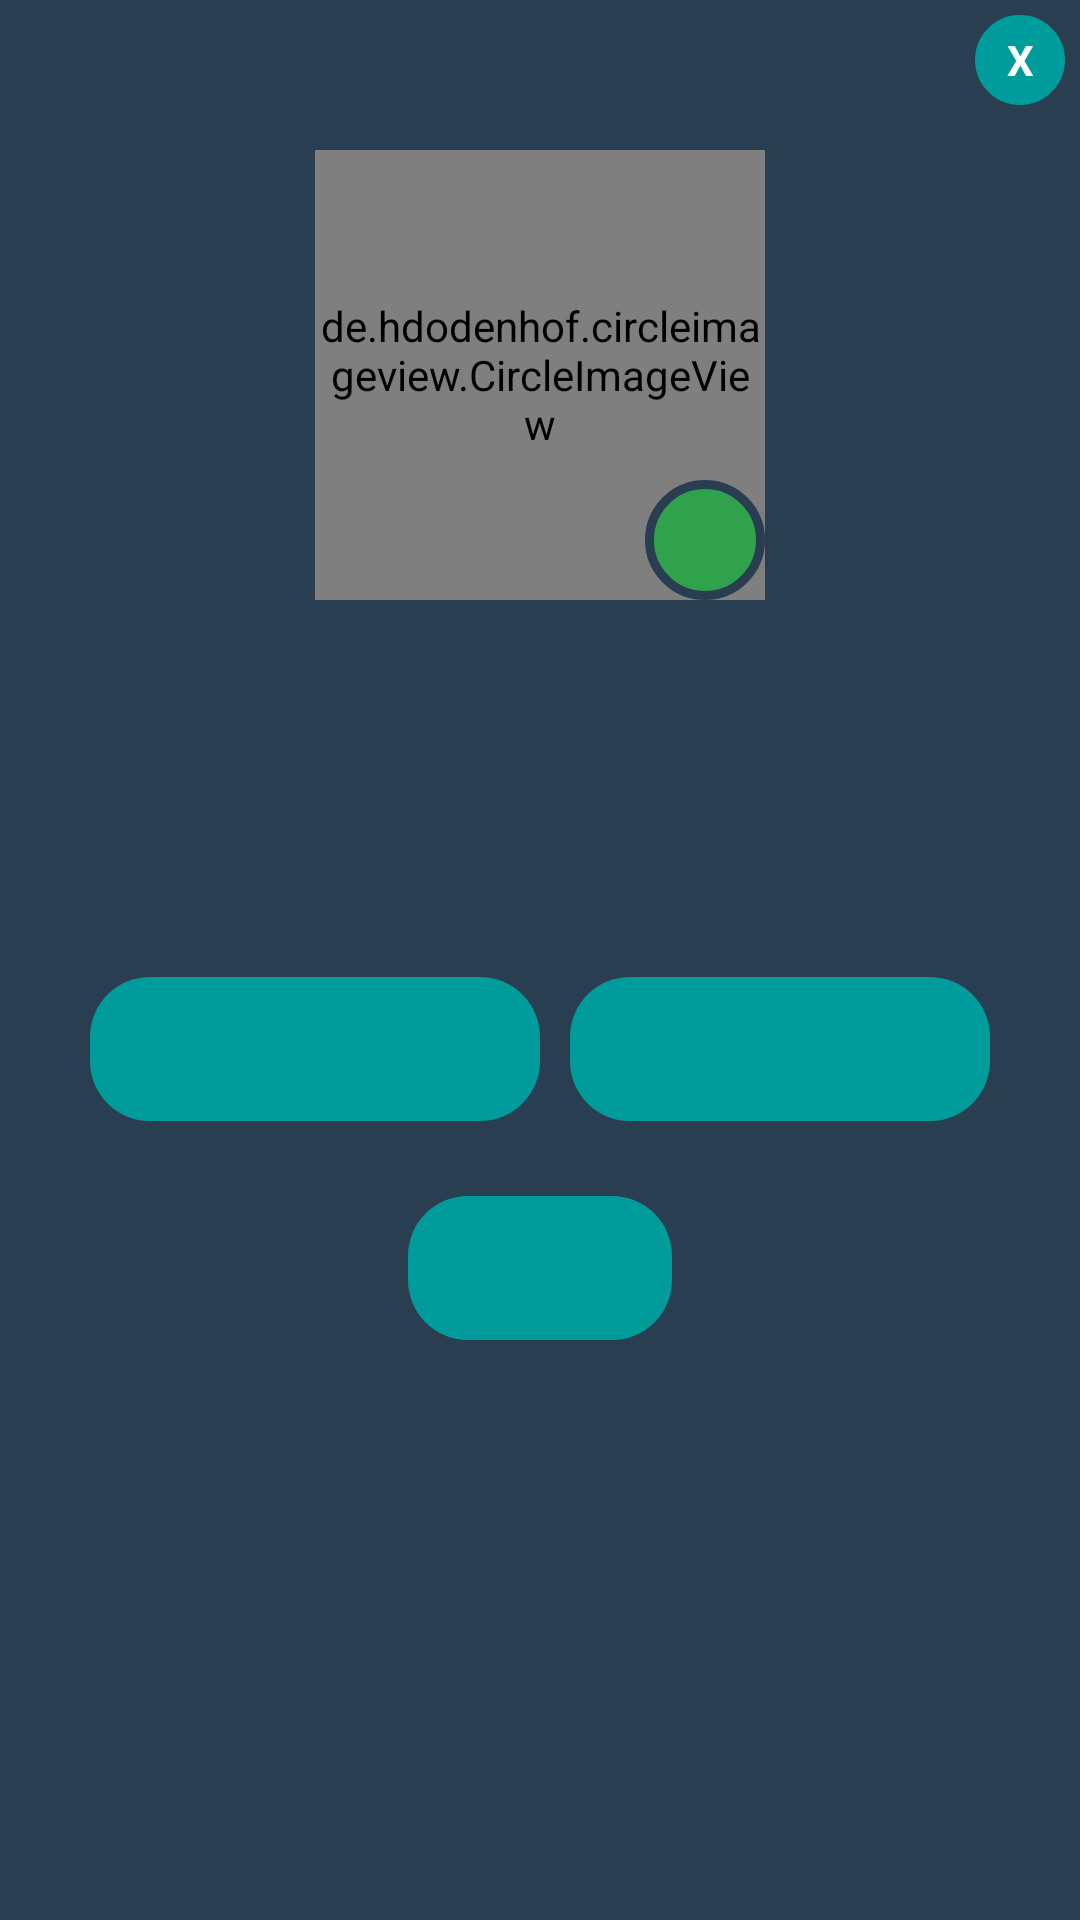

Point at icon controls on the screen. Image size 1080×1920, points as (x,y).
contact online: (705,540)
